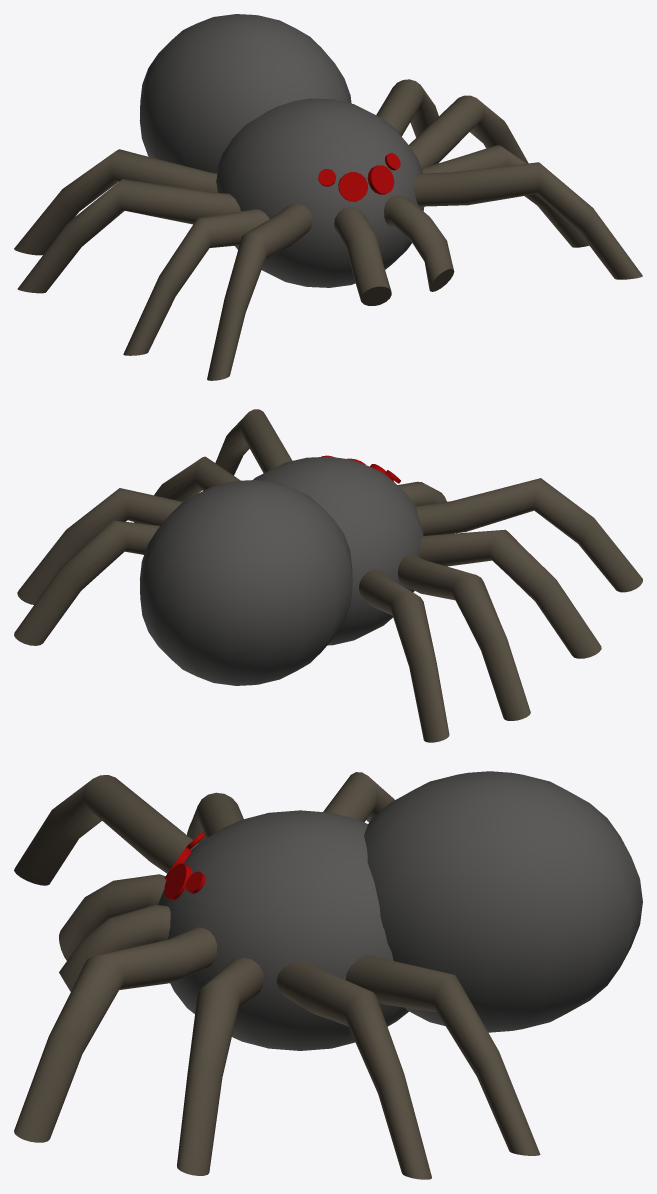
File: tarantula 1.fbx
3 views of the same model, one above another, from view 1: azimuth 30°, elevation 25°; view 2: azimuth 150°, elevation 25°; view 3: azimuth 270°, elevation 25° (orthographic). The views are drawn at different scales.
Parts seen in each view (by area): view 1: Mesh_body, Mesh_rear, Mesh_leg5, Mesh_leg3, Mesh_leg4, Mesh_leg1, Mesh_leg2, Mesh_leg7, Mesh_pedipalp_R, Mesh_pedipalp_L, Mesh_leg6, Mesh_leg8 (+2 smaller); view 2: Mesh_rear, Mesh_body, Mesh_leg1, Mesh_leg2, Mesh_leg3, Mesh_leg4, Mesh_leg8, Mesh_leg7, Mesh_leg5, Mesh_leg6, Mesh_pedipalp_R; view 3: Mesh_rear, Mesh_body, Mesh_leg5, Mesh_leg8, Mesh_leg7, Mesh_leg1, Mesh_leg6, Mesh_pedipalp_R, Mesh_pedipalp_L, Mesh_leg3, Mesh_leg2, Mesh_eye_L.
Part boxes in pixels (<box>): Mesh_body: <box>216,98,424,287</box>; Mesh_rear: <box>139,14,351,173</box>; Mesh_leg5: <box>413,162,642,279</box>; Mesh_leg3: <box>17,179,240,293</box>; Mesh_leg4: <box>14,149,217,255</box>; Mesh_leg1: <box>207,204,312,380</box>; Mesh_leg2: <box>123,209,269,355</box>; Mesh_leg7: <box>409,95,528,168</box>; Mesh_pedipalp_R: <box>334,207,391,305</box>; Mesh_pedipalp_L: <box>384,195,454,291</box>; Mesh_leg6: <box>422,145,588,247</box>; Mesh_leg8: <box>376,79,438,137</box>; Mesh_rear: <box>139,480,352,685</box>; Mesh_body: <box>253,456,423,645</box>; Mesh_leg1: <box>416,478,642,592</box>; Mesh_leg2: <box>419,529,601,658</box>; Mesh_leg3: <box>398,553,530,720</box>; Mesh_leg4: <box>359,570,449,742</box>; Mesh_leg8: <box>14,520,159,645</box>; Mesh_leg7: <box>17,488,182,604</box>; Mesh_leg5: <box>215,409,292,475</box>; Mesh_leg6: <box>134,456,240,523</box>; Mesh_pedipalp_R: <box>397,481,446,505</box>; Mesh_rear: <box>364,771,642,1032</box>; Mesh_body: <box>158,810,408,1050</box>; Mesh_leg5: <box>14,927,217,1142</box>; Mesh_leg8: <box>346,955,540,1155</box>; Mesh_leg7: <box>276,961,431,1179</box>; Mesh_leg1: <box>14,775,198,885</box>; Mesh_leg6: <box>177,957,264,1175</box>; Mesh_pedipalp_R: <box>59,874,166,960</box>; Mesh_pedipalp_L: <box>59,904,170,991</box>; Mesh_leg3: <box>323,772,394,822</box>; Mesh_leg2: <box>187,792,243,843</box>; Mesh_eye_L: <box>164,863,192,900</box>.
Size of the model in its own units: 0.2819 by 0.1034 by 0.2328.
